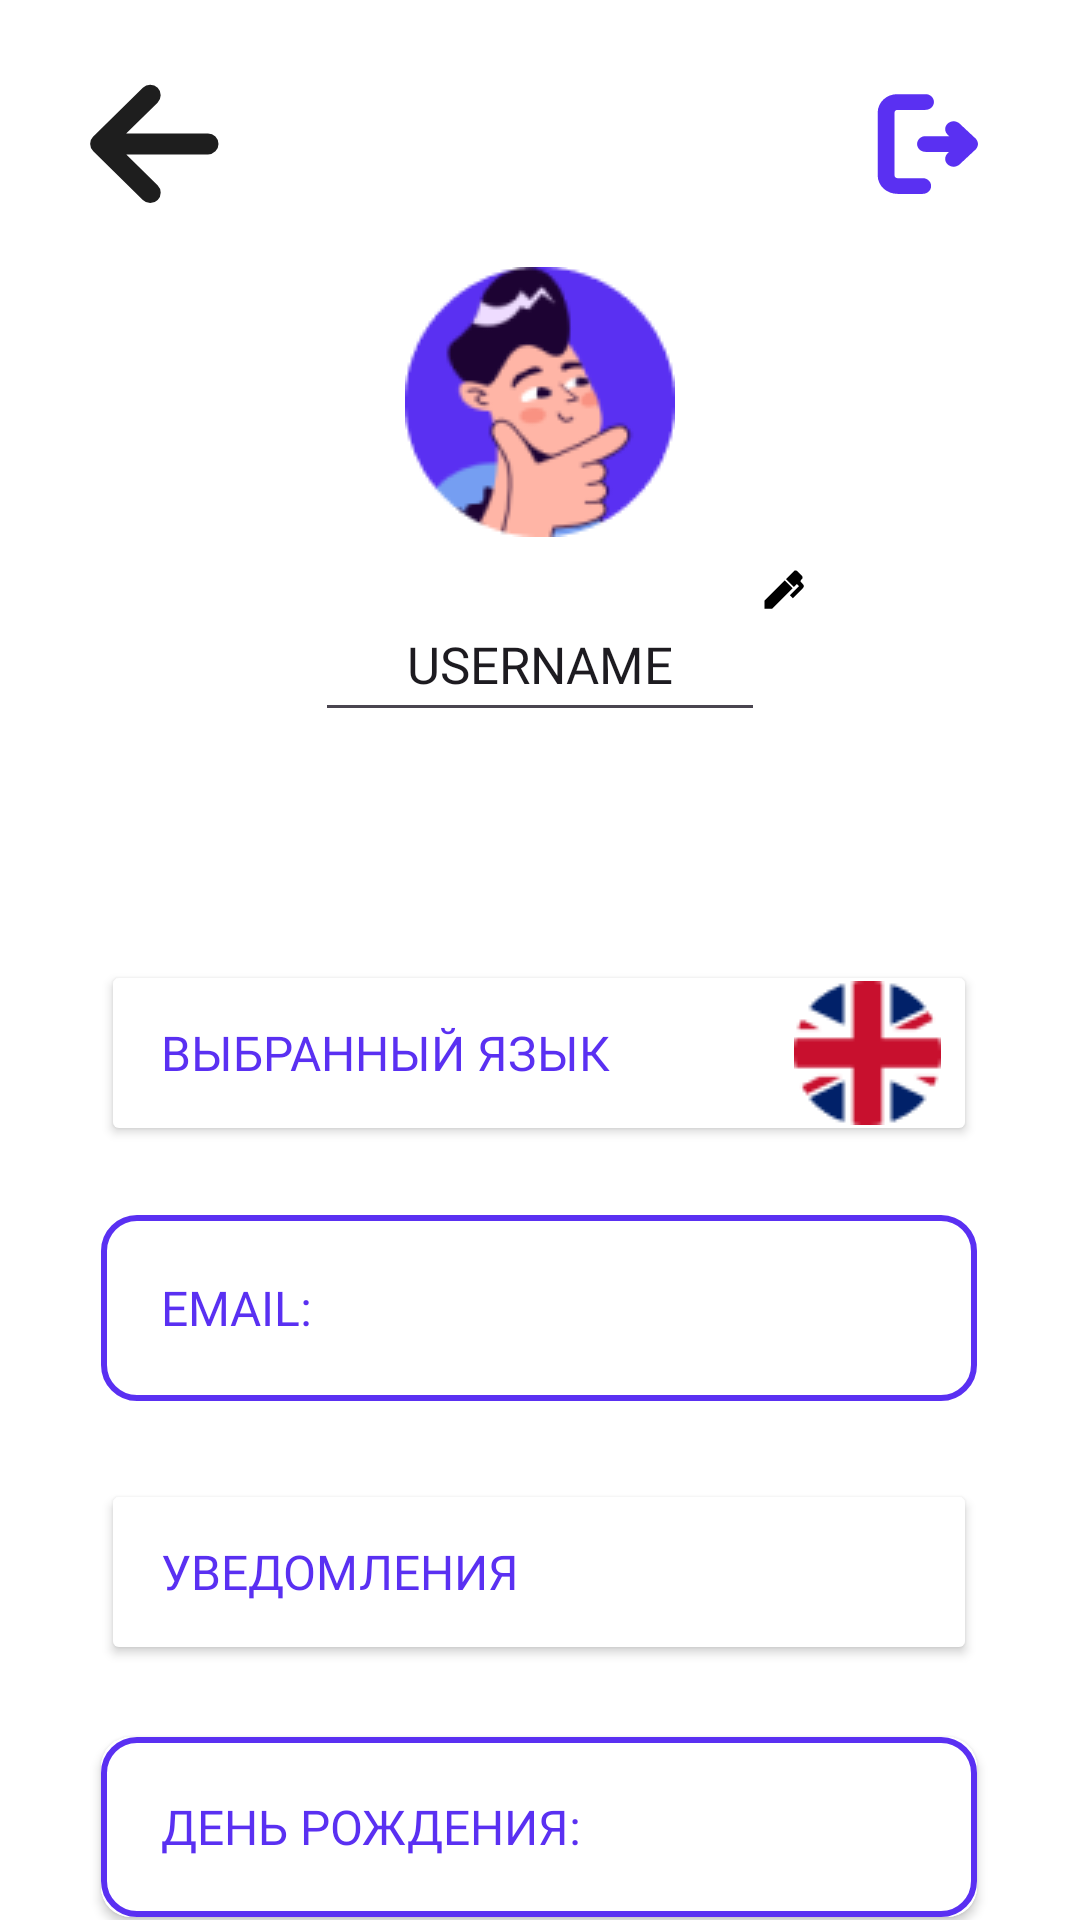

Named icons in this screenshot (1080 × 1920) and their centers, [x,y]:
ion arrow back: [154,143]
pen: [784,589]
